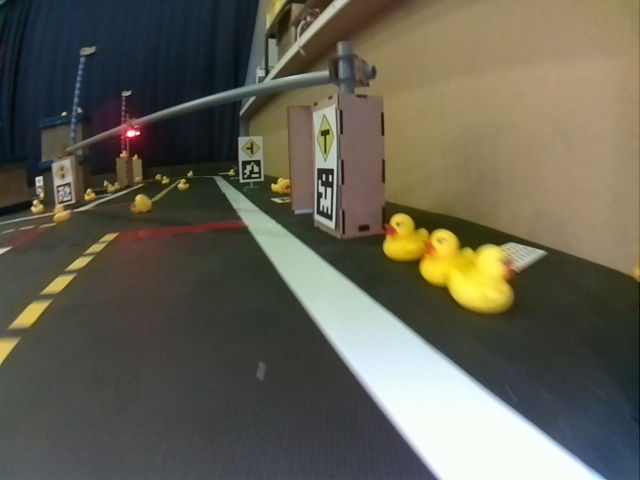Duckie: (450, 250, 515, 311), (423, 230, 463, 284), (382, 213, 427, 258), (131, 194, 151, 212), (52, 207, 70, 220), (31, 201, 44, 213), (271, 179, 284, 191), (85, 190, 94, 200), (178, 179, 188, 188)
Intersection sign: (315, 113, 335, 164), (241, 140, 260, 157)
QR code: (315, 169, 335, 221), (243, 161, 263, 181), (55, 183, 75, 202)
Signal sign: (53, 161, 70, 181)
Traffic light: (126, 129, 139, 138)
